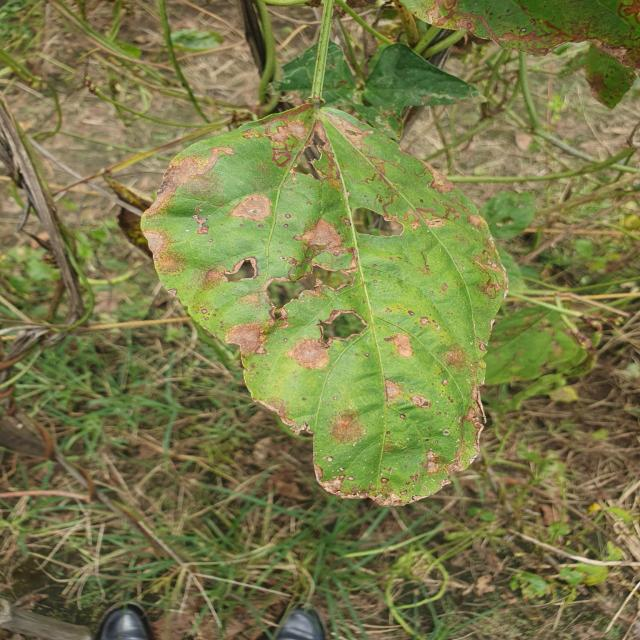leaf-moderate: (142, 102, 508, 506), (396, 0, 640, 107)
sitaw-aphid-low: (322, 41, 479, 137), (279, 45, 319, 98), (40, 110, 47, 112)
sitaw-moderate: (158, 0, 209, 122)
